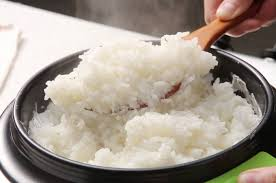ssalbab: (25, 31, 264, 169)
